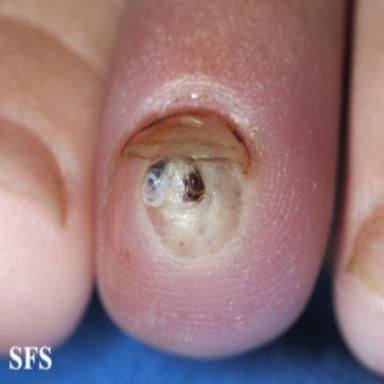Tungiasis: (140, 155, 242, 256)
